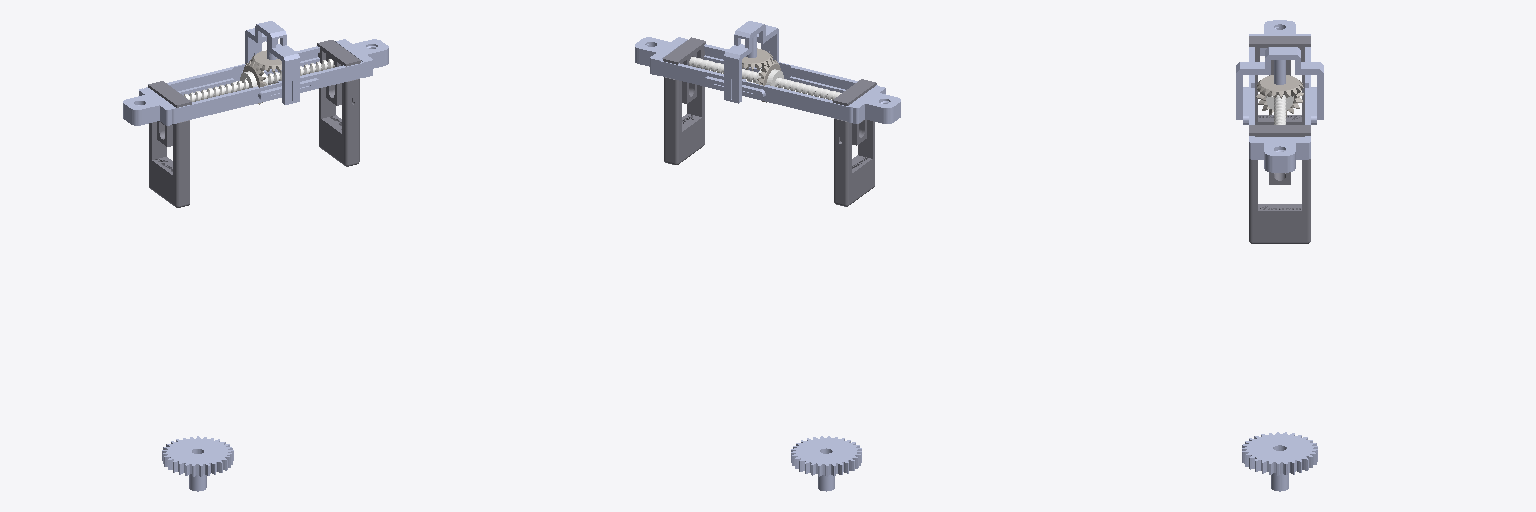
URDF robot description (solidworks2ros_try37):
<?xml version="1.0" encoding="utf-8"?>
<!-- This URDF was automatically created by SolidWorks to URDF Exporter! Originally created by [author] ([email redacted]) 
     Commit Version: 1.6.0-4-g7f85cfe  Build Version: 1.6.7995.38578
     For more information, please see http://wiki.ros.org/sw_urdf_exporter -->
<robot
  name="solidworks2ros_try37">

  <link name = "dummy">
  </link>

  <joint name="dummy_joint" type="fixed">
    <parent link="dummy"/>
    <child link="base_link"/>
  </joint>

  <link name="base_link">
    <inertial>
      <origin
        xyz="0.27421 -0.14456 0.35358"
        rpy="0 0 0" />
      <mass
        value="3338.7" />
      <inertia
        ixx="1620.8"
        ixy="5.8895E-06"
        ixz="0.005018"
        iyy="13518"
        iyz="-16.336"
        izz="14637" />
    </inertial>
    <visual>
      <origin
        xyz="0 0 0"
        rpy="0 0 0" />
      <geometry>
        <mesh
          filename="package://solidworks2ros_try37/meshes/base_link.STL" />
      </geometry>
      <material
        name="">
        <color
          rgba="0.79216 0.81961 0.93333 1" />
      </material>
    </visual>
    <collision>
      <origin
        xyz="0 0 0"
        rpy="0 0 0" />
      <geometry>
        <mesh
          filename="package://solidworks2ros_try37/meshes/base_link.STL" />
      </geometry>
    </collision>
  </link>

  <link
    name="link1">
    <inertial>
      <origin
        xyz="-0.0028443 0.0029656 1.6945"
        rpy="0 0 0" />
      <mass
        value="823.32" />
      <inertia
        ixx="2630.9"
        ixy="0.034568"
        ixz="-0.0063149"
        iyy="2630.9"
        iyz="0.23572"
        izz="118.2" />
    </inertial>
    <visual>
      <origin
        xyz="0 0 0"
        rpy="0 0 0" />
      <geometry>
        <mesh
          filename="package://solidworks2ros_try37/meshes/link1.STL" />
      </geometry>
      <material
        name="">
        <color
          rgba="0.79216 0.81961 0.93333 1" />
      </material>
    </visual>
    <collision>
      <origin
        xyz="0 0 0"
        rpy="0 0 0" />
      <geometry>
        <mesh
          filename="package://solidworks2ros_try37/meshes/link1.STL" />
      </geometry>
    </collision>
  </link>
  
  <joint
    name="joint1"
    type="continuous">
    <origin
      xyz="2.9619 -0.0029702 0.85629"
      rpy="0 0 0" />
    <parent
      link="base_link" />
    <child
      link="link1" />
    <axis
      xyz="0 0 -1" />
    <limit
      effort="100"
      velocity="2" />
  </joint>

  <link name="link2">
    <inertial>
      <origin
        xyz="0.0039258 0.0012118 -0.059794"
        rpy="0 0 0" />
      <mass
        value="479.53" />
      <inertia
        ixx="62.098"
        ixy="2.1851E-14"
        ixz="-1.9085E-13"
        iyy="62.098"
        iyz="-4.9674E-14"
        izz="114.95" />
    </inertial>
    <visual>
      <origin
        xyz="0 0 0"
        rpy="0 0 0" />
      <geometry>
        <mesh
          filename="package://solidworks2ros_try37/meshes/link2.STL" />
      </geometry>
      <material
        name="">
        <color
          rgba="0.79216 0.81961 0.93333 1" />
      </material>
    </visual>
    <collision>
      <origin
        xyz="0 0 0"
        rpy="0 0 0" />
      <geometry>
        <mesh
          filename="package://solidworks2ros_try37/meshes/link2.STL" />
      </geometry>
    </collision>
  </link>
  
  <joint name="joint2"
    type="continuous">
    <origin
      xyz="1.4756 -0.0012118 0.85629"
      rpy="0 0 0" />
    <parent
      link="base_link" />
    <child
      link="link2" />
    <axis
      xyz="0 0 -1" />
    <limit
      effort="100"
      velocity="2" />
  </joint>
  
  <link
    name="link3">
    <inertial>
      <origin
        xyz="-0.0028446 0.0029646 -0.059794"
        rpy="0 0 0" />
      <mass
        value="479.53" />
      <inertia
        ixx="62.098"
        ixy="-2.0492E-14"
        ixz="1.748E-13"
        iyy="62.098"
        iyz="1.8841E-14"
        izz="114.95" />
    </inertial>
    <visual>
      <origin
        xyz="0 0 0"
        rpy="0 0 0" />
      <geometry>
        <mesh
          filename="package://solidworks2ros_try37/meshes/link3.STL" />
      </geometry>
      <material
        name="">
        <color
          rgba="0.79216 0.81961 0.93333 1" />
      </material>
    </visual>
    <collision>
      <origin
        xyz="0 0 0"
        rpy="0 0 0" />
      <geometry>
        <mesh
          filename="package://solidworks2ros_try37/meshes/link3.STL" />
      </geometry>
    </collision>
  </link>
  <joint
    name="joint3"
    type="continuous">
    <origin
      xyz="0.0028446 -0.0029646 0.85629"
      rpy="0 0 0" />
    <parent
      link="base_link" />
    <child
      link="link3" />
    <axis
      xyz="0 0 -1" />
    <limit
      effort="100"
      velocity="2" />
  </joint>
  <link
    name="link4">
    <inertial>
      <origin
        xyz="0.0039363 0.0011773 -0.059794"
        rpy="0 0 0" />
      <mass
        value="479.53" />
      <inertia
        ixx="62.098"
        ixy="3.0743E-14"
        ixz="-3.4524E-14"
        iyy="62.098"
        iyz="-2.8969E-14"
        izz="114.95" />
    </inertial>
    <visual>
      <origin
        xyz="0 0 0"
        rpy="0 0 0" />
      <geometry>
        <mesh
          filename="package://solidworks2ros_try37/meshes/link4.STL" />
      </geometry>
      <material
        name="">
        <color
          rgba="0.79216 0.81961 0.93333 1" />
      </material>
    </visual>
    <collision>
      <origin
        xyz="0 0 0"
        rpy="0 0 0" />
      <geometry>
        <mesh
          filename="package://solidworks2ros_try37/meshes/link4.STL" />
      </geometry>
    </collision>
  </link>
  <joint
    name="joint4"
    type="continuous">
    <origin
      xyz="-1.4835 -0.0011773 0.85629"
      rpy="0 0 0" />
    <parent
      link="base_link" />
    <child
      link="link4" />
    <axis
      xyz="0 0 -1" />
    <limit
      effort="100"
      velocity="2" />
  </joint>
  <link
    name="link5">
    <inertial>
      <origin
        xyz="-0.0040861 0.00049413 1.6945"
        rpy="0 0 0" />
      <mass
        value="823.32" />
      <inertia
        ixx="2630.9"
        ixy="0.0059088"
        ixz="0.17812"
        iyy="2630.8"
        iyz="0.15453"
        izz="118.2" />
    </inertial>
    <visual>
      <origin
        xyz="0 0 0"
        rpy="0 0 0" />
      <geometry>
        <mesh
          filename="package://solidworks2ros_try37/meshes/link5.STL" />
      </geometry>
      <material
        name="">
        <color
          rgba="0.79216 0.81961 0.93333 1" />
      </material>
    </visual>
    <collision>
      <origin
        xyz="0 0 0"
        rpy="0 0 0" />
      <geometry>
        <mesh
          filename="package://solidworks2ros_try37/meshes/link5.STL" />
      </geometry>
    </collision>
  </link>
  <joint
    name="joint5"
    type="continuous">
    <origin
      xyz="-2.955 -0.00049273 0.85629"
      rpy="0 0 0" />
    <parent
      link="base_link" />
    <child
      link="link5" />
    <axis
      xyz="0 0 -1" />
    <limit
      effort="100"
      velocity="2" />
  </joint>
  <link
    name="link6">
    <inertial>
      <origin
        xyz="-0.29136 0.0012221 -0.36273"
        rpy="0 0 0" />
      <mass
        value="1056.6" />
      <inertia
        ixx="266.76"
        ixy="-1.8648E-06"
        ixz="1.3768E-13"
        iyy="884.97"
        iyz="-1.0553"
        izz="1059.3" />
    </inertial>
    <visual>
      <origin
        xyz="0 0 0"
        rpy="0 0 0" />
      <geometry>
        <mesh
          filename="package://solidworks2ros_try37/meshes/link6.STL" />
      </geometry>
      <material
        name="">
        <color
          rgba="0.79216 0.81961 0.93333 1" />
      </material>
    </visual>
    <collision>
      <origin
        xyz="0 0 0"
        rpy="0 0 0" />
      <geometry>
        <mesh
          filename="package://solidworks2ros_try37/meshes/link6.STL" />
      </geometry>
    </collision>
  </link>
  <joint
    name="joint6"
    type="prismatic">
    <origin
      xyz="0.41726 0 10.132"
      rpy="0 0 0" />
    <parent
      link="base_link" />
    <child
      link="link6" />
    <axis
      xyz="0 0 1" />
    <limit
      lower="-5"
      upper="2"
      effort="1500"
      velocity="2" />
  </joint>
  <link
    name="link7">
    <inertial>
      <origin
        xyz="-0.96876 -0.00015639 -0.00040474"
        rpy="0 0 0" />
      <mass
        value="110.61" />
      <inertia
        ixx="1.7188"
        ixy="-0.036134"
        ixz="0.032169"
        iyy="65.104"
        iyz="0.0012089"
        izz="65.105" />
    </inertial>
    <visual>
      <origin
        xyz="0 0 0"
        rpy="0 0 0" />
      <geometry>
        <mesh
          filename="package://solidworks2ros_try37/meshes/link7.STL" />
      </geometry>
      <material
        name="">
        <color
          rgba="1 1 1 1" />
      </material>
    </visual>
    <collision>
      <origin
        xyz="0 0 0"
        rpy="0 0 0" />
      <geometry>
        <mesh
          filename="package://solidworks2ros_try37/meshes/link7.STL" />
      </geometry>
    </collision>
  </link>
  <joint
    name="joint7"
    type="continuous">
    <origin
      xyz="-0.4572 0 -0.508"
      rpy="0 0 0" />
    <parent
      link="link6" />
    <child
      link="link7" />
    <axis
      xyz="1 0 0" />
    <limit
      effort="100"
      velocity="2" />
  </joint>
  <link
    name="lilnk8">
    <inertial>
      <origin
        xyz="0.95535 -9.33E-06 0.00043383"
        rpy="0 0 0" />
      <mass
        value="110.61" />
      <inertia
        ixx="1.7188"
        ixy="0.044925"
        ixz="0.017952"
        iyy="65.103"
        iyz="-0.00056874"
        izz="65.106" />
    </inertial>
    <visual>
      <origin
        xyz="0 0 0"
        rpy="0 0 0" />
      <geometry>
        <mesh
          filename="package://solidworks2ros_try37/meshes/lilnk8.STL" />
      </geometry>
      <material
        name="">
        <color
          rgba="1 1 1 1" />
      </material>
    </visual>
    <collision>
      <origin
        xyz="0 0 0"
        rpy="0 0 0" />
      <geometry>
        <mesh
          filename="package://solidworks2ros_try37/meshes/lilnk8.STL" />
      </geometry>
    </collision>
  </link>
  <joint
    name="joint8"
    type="continuous">
    <origin
      xyz="-0.4572 0 -0.508"
      rpy="0 0 0" />
    <parent
      link="link6" />
    <child
      link="lilnk8" />
    <axis
      xyz="1 0 0" />
    <limit
      effort="100"
      velocity="2" />
  </joint>
  <link
    name="link9">
    <inertial>
      <origin
        xyz="0.00016455 -0.0013229 -0.40635"
        rpy="0 0 0" />
      <mass
        value="748.8" />
      <inertia
        ixx="599.5"
        ixy="0.013919"
        ixz="0.066567"
        iyy="492.8"
        iyz="0.43831"
        izz="124.43" />
    </inertial>
    <visual>
      <origin
        xyz="0 0 0"
        rpy="0 0 0" />
      <geometry>
        <mesh
          filename="package://solidworks2ros_try37/meshes/link9.STL" />
      </geometry>
      <material
        name="">
        <color
          rgba="0.58824 0.58824 0.63137 1" />
      </material>
    </visual>
    <collision>
      <origin
        xyz="0 0 0"
        rpy="0 0 0" />
      <geometry>
        <mesh
          filename="package://solidworks2ros_try37/meshes/link9.STL" />
      </geometry>
    </collision>
  </link>
  <joint
    name="joint9"
    type="prismatic">
    <origin
      xyz="-2.6144 0 -1.27"
      rpy="0 0 0" />
    <parent
      link="link6" />
    <child
      link="link9" />
    <axis
      xyz="1 0 0" />
    <limit
      lower="0"
      upper="0"
      effort="100"
      velocity="2" />
  </joint>
  <link
    name="link10">
    <inertial>
      <origin
        xyz="-0.00016455 0.0013229 -0.40635"
        rpy="0 0 0" />
      <mass
        value="748.8" />
      <inertia
        ixx="599.5"
        ixy="0.013919"
        ixz="-0.066567"
        iyy="492.8"
        iyz="-0.43831"
        izz="124.43" />
    </inertial>
    <visual>
      <origin
        xyz="0 0 0"
        rpy="0 0 0" />
      <geometry>
        <mesh
          filename="package://solidworks2ros_try37/meshes/link10.STL" />
      </geometry>
      <material
        name="">
        <color
          rgba="0.58824 0.58824 0.63137 1" />
      </material>
    </visual>
    <collision>
      <origin
        xyz="0 0 0"
        rpy="0 0 0" />
      <geometry>
        <mesh
          filename="package://solidworks2ros_try37/meshes/link10.STL" />
      </geometry>
    </collision>
  </link>
  <joint
    name="joint10"
    type="prismatic">
    <origin
      xyz="1.7 0 -1.27"
      rpy="0 0 0" />
    <parent
      link="link6" />
    <child
      link="link10" />
    <axis
      xyz="1 0 0" />
    <limit
      lower="0"
      upper="0"
      effort="100"
      velocity="2" />
  </joint>
  <link
    name="link11">
    <inertial>
      <origin
        xyz="2.5705E-11 7.4808E-11 -0.064749"
        rpy="0 0 0" />
      <mass
        value="70.221" />
      <inertia
        ixx="3.3885"
        ixy="5.3501E-08"
        ixz="1.0697E-10"
        iyy="3.3885"
        iyz="3.2471E-10"
        izz="6.5667" />
    </inertial>
    <visual>
      <origin
        xyz="0 0 0"
        rpy="0 0 0" />
      <geometry>
        <mesh
          filename="package://solidworks2ros_try37/meshes/link11.STL" />
      </geometry>
      <material
        name="">
        <color
          rgba="0.77647 0.75686 0.73725 1" />
      </material>
    </visual>
    <collision>
      <origin
        xyz="0 0 0"
        rpy="0 0 0" />
      <geometry>
        <mesh
          filename="package://solidworks2ros_try37/meshes/link11.STL" />
      </geometry>
    </collision>
  </link>
  <joint
    name="joint11"
    type="continuous">
    <origin
      xyz="0 0 0"
      rpy="0 0 0" />
    <parent
      link="link6" />
    <child
      link="link11" />
    <axis
      xyz="0 0 -1" />
    <limit
      effort="100"
      velocity="2" />
  </joint>
  <link
    name="link12">
    <inertial>
      <origin
        xyz="-0.0040775 3.9634E-05 -0.00057525"
        rpy="0 0 0" />
      <mass
        value="69.71" />
      <inertia
        ixx="7.0137"
        ixy="7.2533E-06"
        ixz="-0.00010526"
        iyy="3.6371"
        iyz="-0.00041872"
        izz="3.6431" />
    </inertial>
    <visual>
      <origin
        xyz="0 0 0"
        rpy="0 0 0" />
      <geometry>
        <mesh
          filename="package://solidworks2ros_try37/meshes/link12.STL" />
      </geometry>
      <material
        name="">
        <color
          rgba="0.77647 0.75686 0.73725 1" />
      </material>
    </visual>
    <collision>
      <origin
        xyz="0 0 0"
        rpy="0 0 0" />
      <geometry>
        <mesh
          filename="package://solidworks2ros_try37/meshes/link12.STL" />
      </geometry>
    </collision>
  </link>
  <joint
    name="joint12"
    type="continuous">
    <origin
      xyz="-0.4572 0 -0.508"
      rpy="0 0 0" />
    <parent
      link="link6" />
    <child
      link="link12" />
    <axis
      xyz="1 0 0" />
    <limit
      effort="100"
      velocity="2" />
  </joint>

  <transmission name="trans1">
    <type>transmission_interface/SimpleTransmission</type>
    <joint name="joint1">
      <hardwareInterface>hardware_interface/VelocityJointInterface</hardwareInterface>
    </joint>
    <actuator name="motor1">
      <hardwareInterface>hardware_interface/VelocityJointInterface</hardwareInterface>
      <mechanicalReduction>1</mechanicalReduction>
    </actuator>
  </transmission>

  <transmission name="trans2">
    <type>transmission_interface/SimpleTransmission</type>
    <joint name="joint2">
      <hardwareInterface>hardware_interface/VelocityJointInterface</hardwareInterface>
    </joint>
    <actuator name="motor2">
      <hardwareInterface>hardware_interface/VelocityJointInterface</hardwareInterface>
      <mechanicalReduction>1</mechanicalReduction>
    </actuator>
  </transmission>

  <transmission name="trans3">
    <type>transmission_interface/SimpleTransmission</type>
    <joint name="joint3">
      <hardwareInterface>hardware_interface/VelocityJointInterface</hardwareInterface>
    </joint>
    <actuator name="motor3">
      <hardwareInterface>hardware_interface/VelocityJointInterface</hardwareInterface>
      <mechanicalReduction>1</mechanicalReduction>
    </actuator>
  </transmission>

  <transmission name="trans4">
    <type>transmission_interface/SimpleTransmission</type>
    <joint name="joint4">
      <hardwareInterface>hardware_interface/VelocityJointInterface</hardwareInterface>
    </joint>
    <actuator name="motor4">
      <hardwareInterface>hardware_interface/VelocityJointInterface</hardwareInterface>
      <mechanicalReduction>1</mechanicalReduction>
    </actuator>
  </transmission>

  <transmission name="trans5">
    <type>transmission_interface/SimpleTransmission</type>
    <joint name="joint5">
      <hardwareInterface>hardware_interface/VelocityJointInterface</hardwareInterface>
    </joint>
    <actuator name="motor5">
      <hardwareInterface>hardware_interface/VelocityJointInterface</hardwareInterface>
      <mechanicalReduction>1</mechanicalReduction>
    </actuator>
  </transmission>

  <transmission name="trans6">
    <type>transmission_interface/SimpleTransmission</type>
    <joint name="joint6">
      <hardwareInterface>hardware_interface/EffortJointInterface</hardwareInterface>
    </joint>
    <actuator name="motor6">
      <hardwareInterface>hardware_interface/EffortJointInterface</hardwareInterface>
      <mechanicalReduction>1</mechanicalReduction>
    </actuator>
  </transmission>

  <!-- <gazebo reference="link1">
    <gravity>false</gravity>
  </gazebo>

  <gazebo reference="link2">
    <gravity>false</gravity>
  </gazebo>

  <gazebo reference="link3">
    <gravity>false</gravity>
  </gazebo>

  <gazebo reference="link4">
    <gravity>false</gravity>
  </gazebo>

  <gazebo reference="link5">
    <gravity>false</gravity>
  </gazebo> -->
  
  <!-- <gazebo reference="link6">
    <gravity>false</gravity>
  </gazebo>

  <gazebo reference="link7">
    <gravity>false</gravity>
  </gazebo>

  <gazebo reference="lilnk8">
    <gravity>false</gravity>
  </gazebo>

  <gazebo reference="link9">
    <gravity>false</gravity>
  </gazebo>

  <gazebo reference="link10">
    <gravity>false</gravity>
  </gazebo>

  <gazebo reference="link11">
    <gravity>false</gravity>
  </gazebo>

  <gazebo reference="link12">
    <gravity>false</gravity>
  </gazebo> -->

  
  <!-- Gazebo controller -->
  <gazebo>
      <plugin name="ros_control" filename="libgazebo_ros_control.so"/>
  </gazebo>


</robot>

--- Facts derived from the render (not from the file) ---
3 views of the same robot in one strip: view 1: azimuth 30°, elevation 25°; view 2: azimuth 150°, elevation 25°; view 3: azimuth 270°, elevation 25° (orthographic).
Model solidworks2ros_try37 with 14 links and 13 joints (9 continuous, 3 prismatic, 1 fixed), rooted at dummy, posed every joint at zero.
Links seen in each view (by area): view 1: link6, link10, link9, link4, link7; view 2: link6, link10, link9, link4, link7; view 3: link6, link10, link4, link9, link11.
Link boxes in pixels (x1,y1,x2,y2): link6: (123,21,388,125); link10: (317,40,360,166); link9: (148,81,191,207); link4: (162,436,233,491); link7: (184,71,257,101); link6: (635,21,900,123); link10: (663,37,705,164); link9: (833,79,876,206); link4: (791,436,861,491); link7: (766,69,841,100); link6: (1236,20,1323,172); link10: (1249,125,1310,243); link4: (1242,432,1317,491); link9: (1249,36,1310,124); link11: (1256,75,1303,98).
Size in the robot's own frame: 6.55 by 1.79 by 10.75 metres.
Meshes: 13 distinct files referenced, 8 mesh visuals loaded (8 binary STL); not drawn: 5 (reference not matched to a file when rendering).
